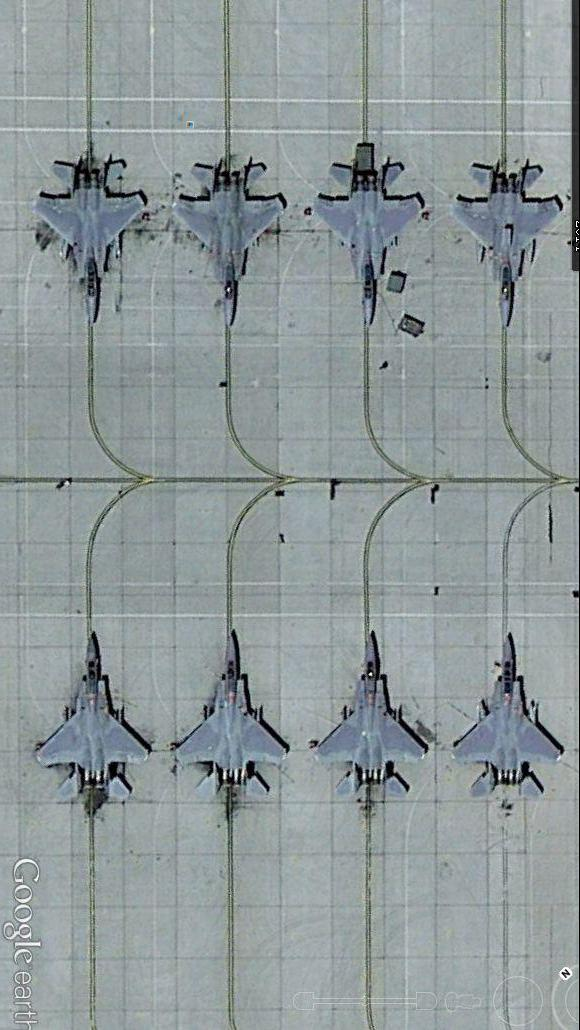F-15: (446, 625, 570, 805), (32, 146, 153, 330), (313, 631, 437, 809), (167, 149, 286, 333), (170, 627, 288, 810), (311, 149, 426, 329), (37, 630, 151, 809), (450, 155, 563, 331)
